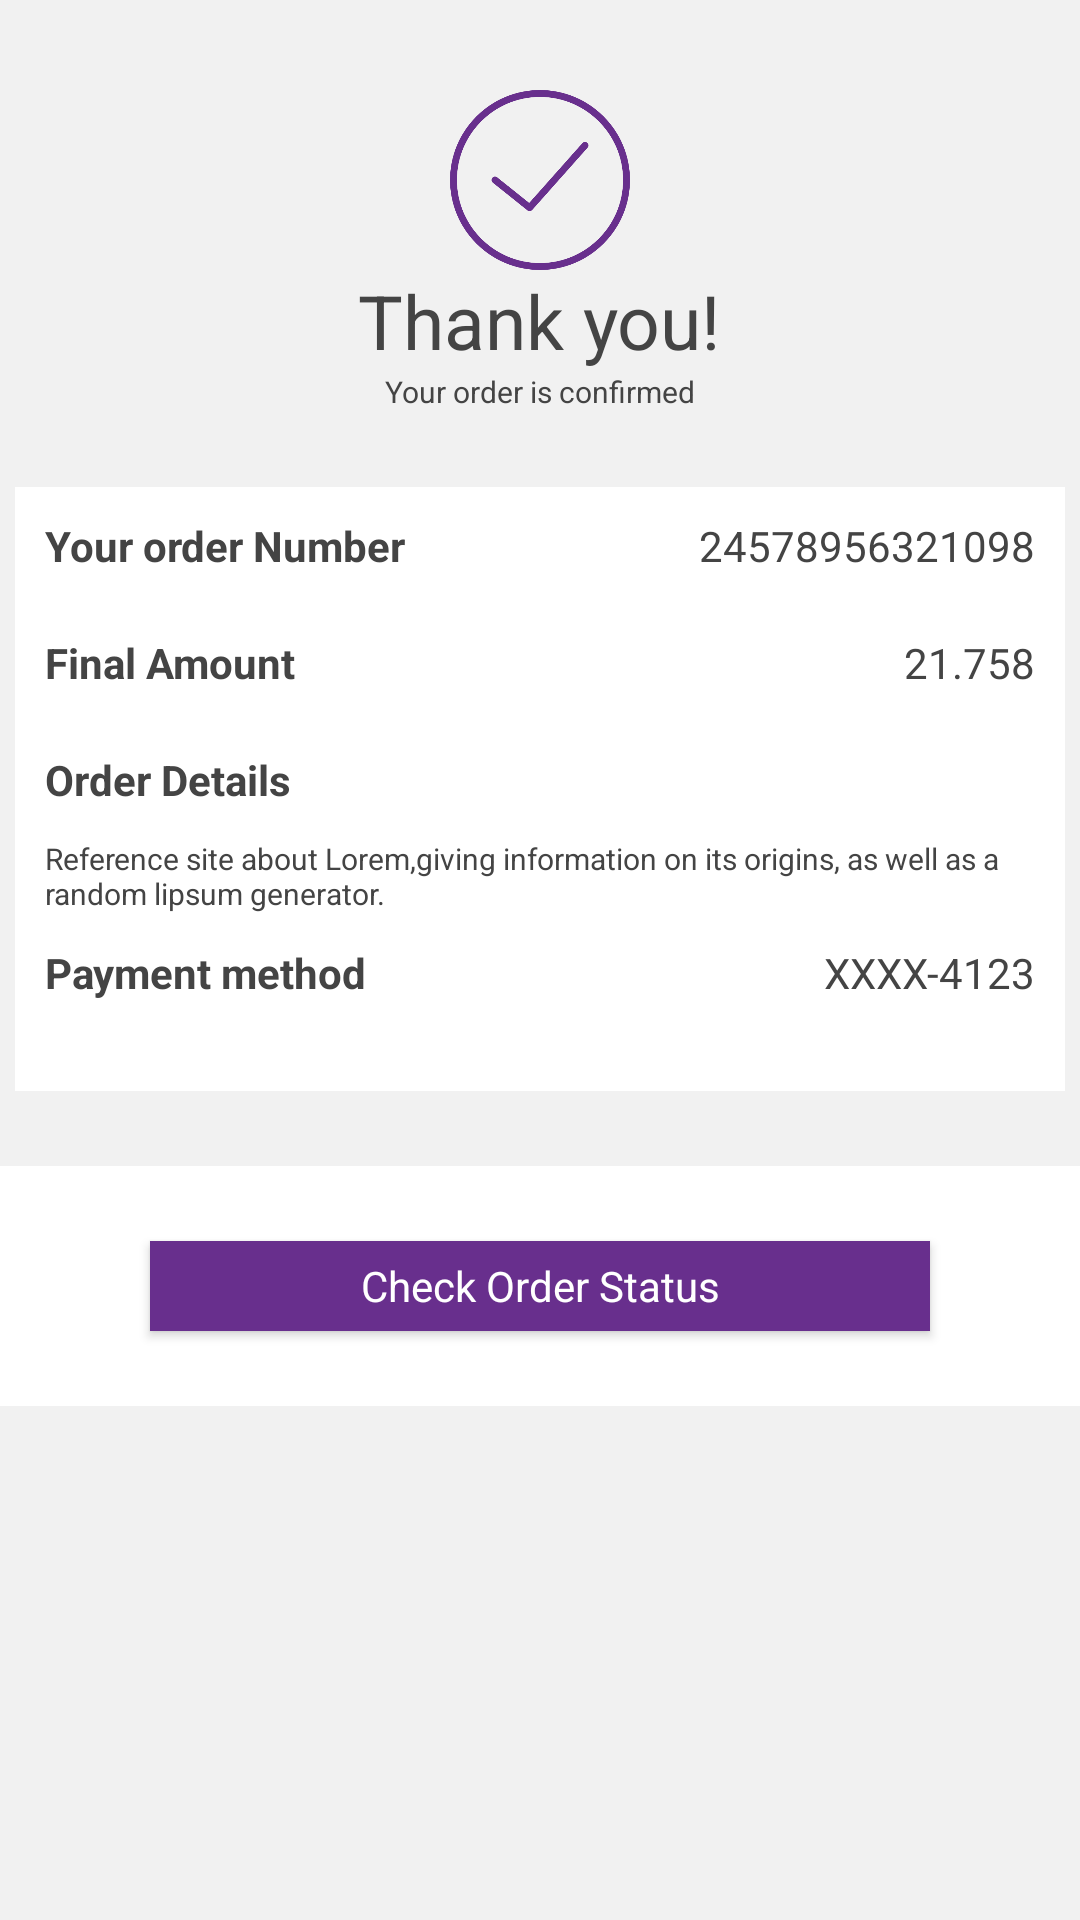

Icons on this 1080×1920 Android screen, each with the point to tap as point (x, y):
success: point (540, 180)
